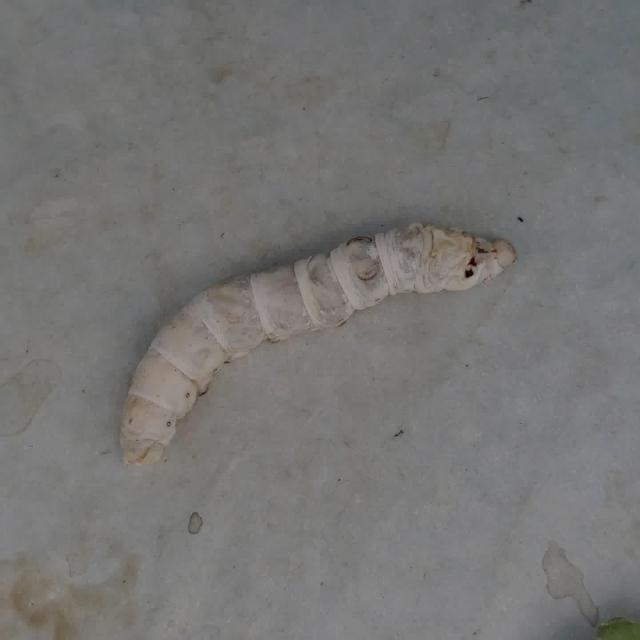Grasserie: (80, 193, 547, 521)
